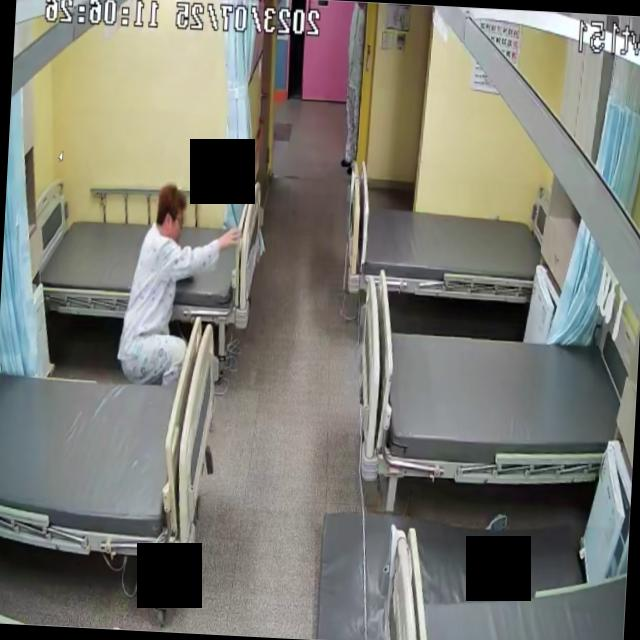bed: (0, 307, 220, 563), (354, 320, 626, 486), (23, 198, 264, 328), (348, 194, 542, 302)
danger: (104, 181, 242, 400)
patient: (105, 185, 241, 402)
